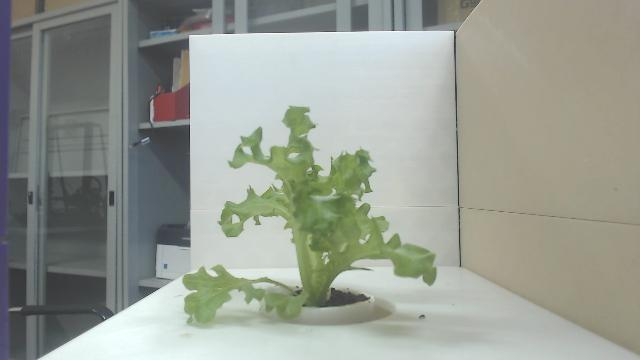Vegetative Stage: (180, 105, 440, 327)
